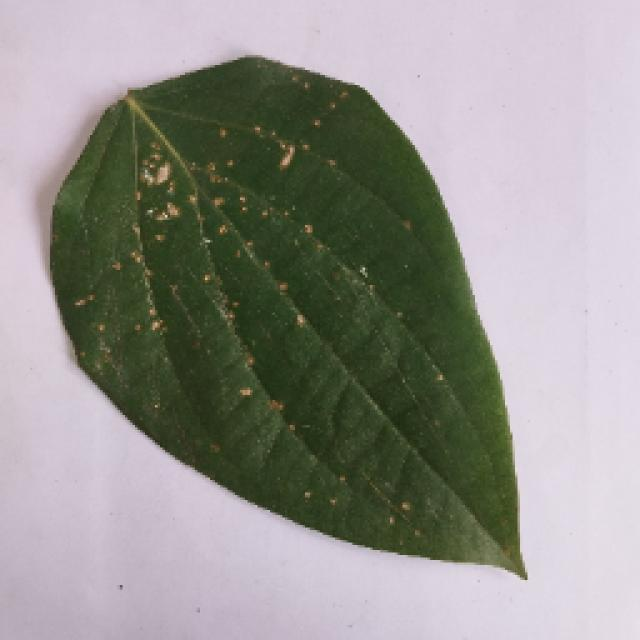pollu-disease: (48, 52, 522, 580)
